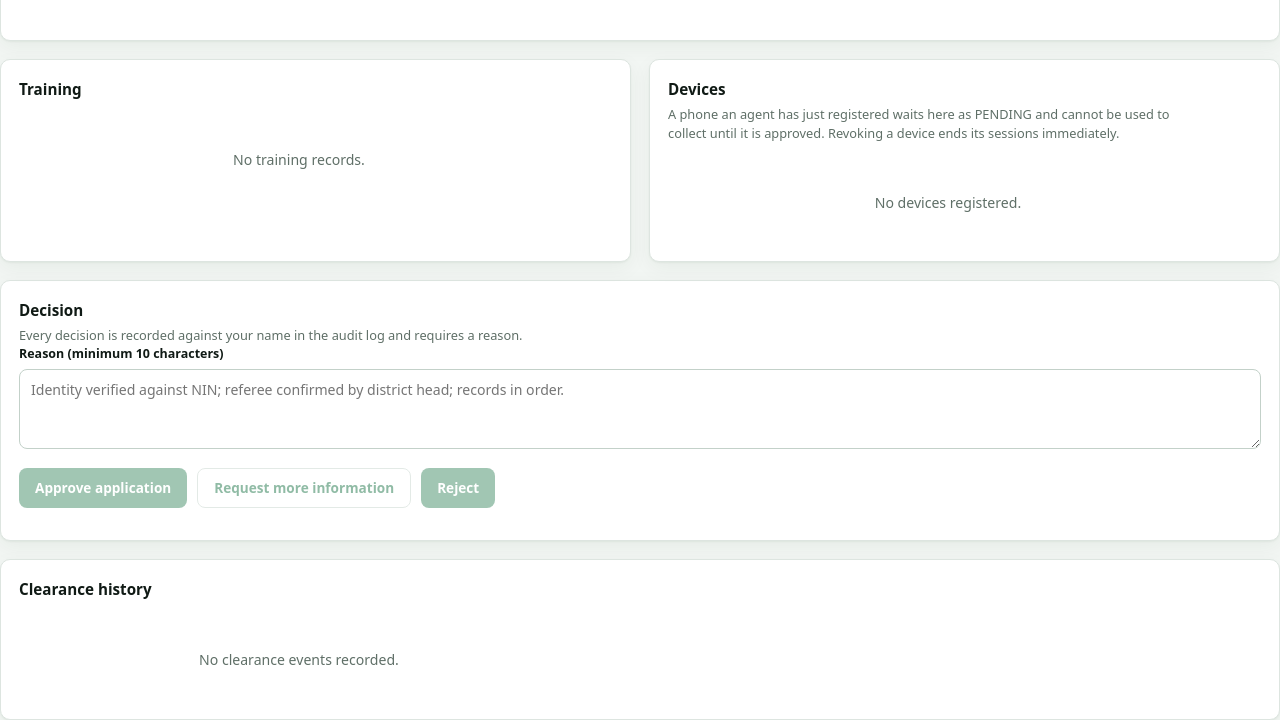
Test: deciding an application › sends the decision with its reason, and reloads rather than assuming
(page scrolled)
Expected: the button "Approve application" is shown, [19,468,187,508]
Replace the text in the text box labelled "Reason (minimum 10 characters)" with "Identity documents checked against the NIN slip." at (640, 409), box [19,369,1261,449]
(page scrolled)
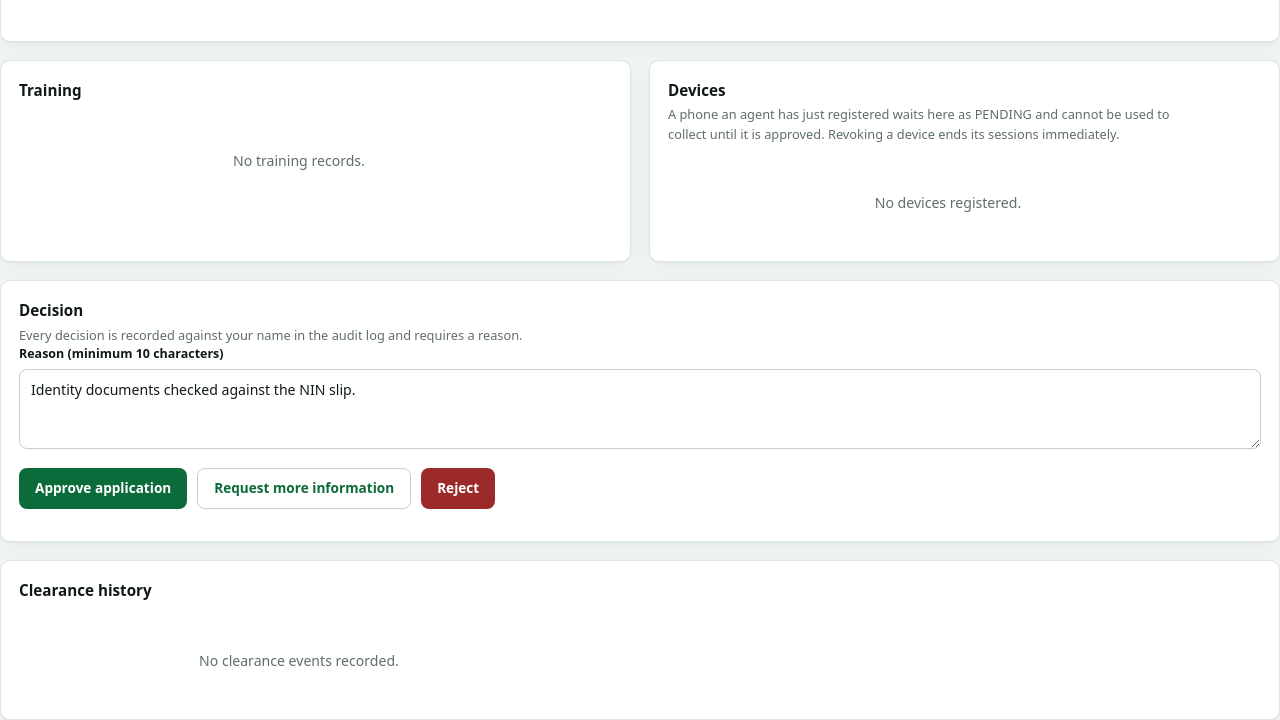
Click the button "Approve application" at (103, 488), box [19,468,187,509]
(page scrolled)
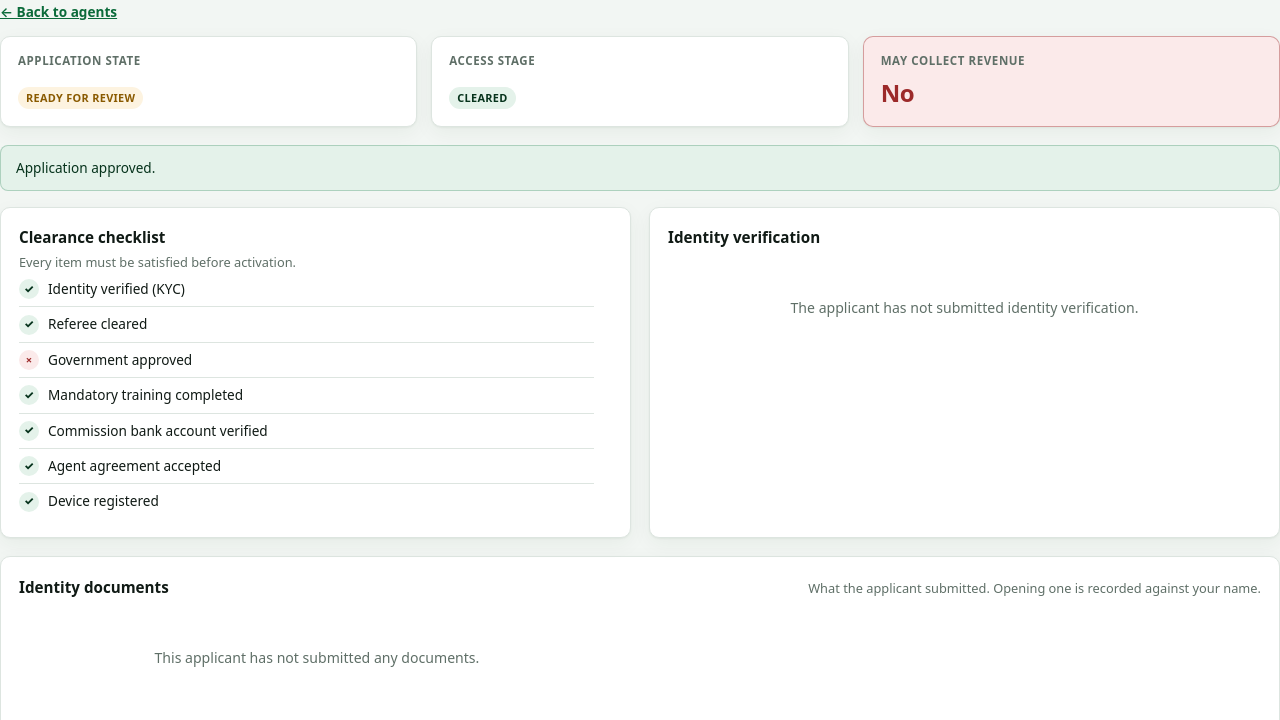
Expected: the text "Application approved." is shown, [16,158,155,177]
